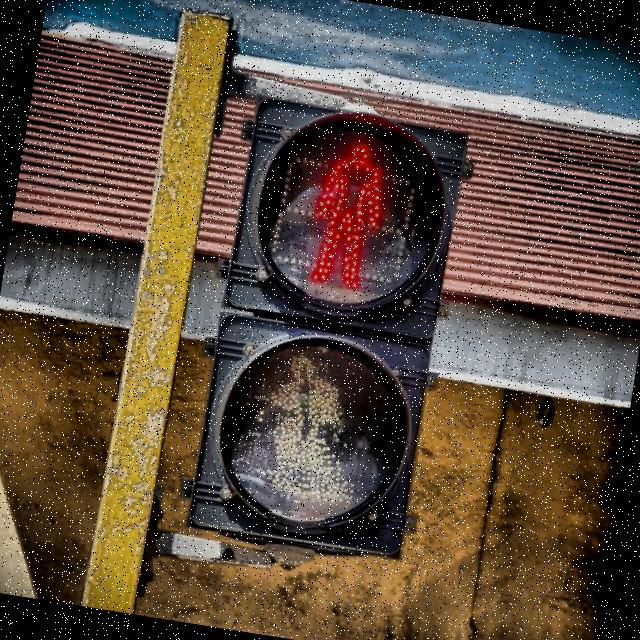red_light: (296, 130, 399, 298)
